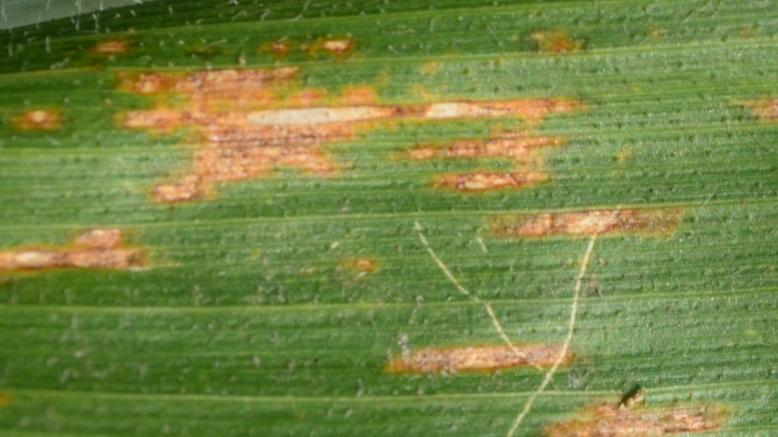Gray_Leaf_Spot: (113, 99, 580, 129), (117, 60, 449, 99), (541, 384, 735, 437), (152, 130, 360, 176), (0, 219, 162, 278), (496, 202, 690, 238), (384, 342, 581, 375), (387, 129, 568, 161), (423, 161, 565, 193), (247, 27, 367, 58), (136, 176, 243, 207), (2, 98, 74, 135), (82, 29, 144, 65), (523, 27, 598, 56), (730, 88, 778, 127), (334, 250, 381, 274), (608, 138, 640, 166)
